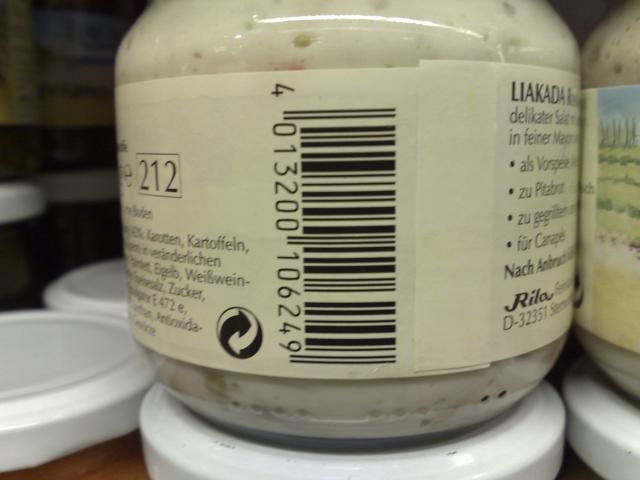Barcode: (264, 74, 427, 373)
